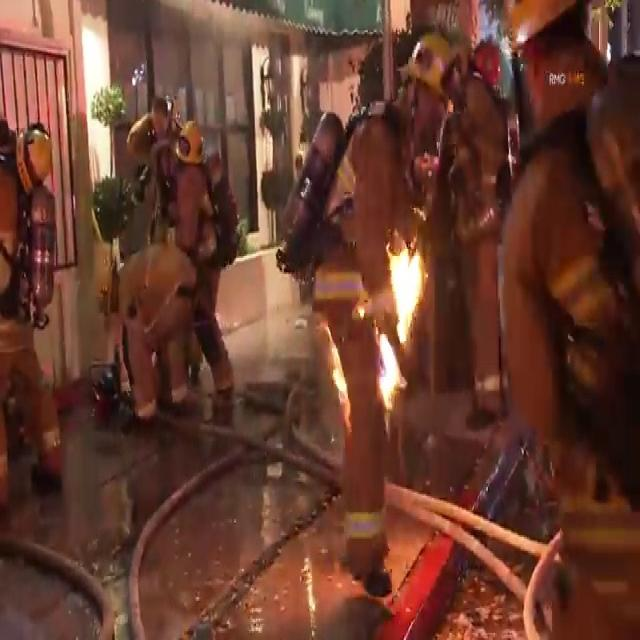Fire: (368, 228, 429, 406)
